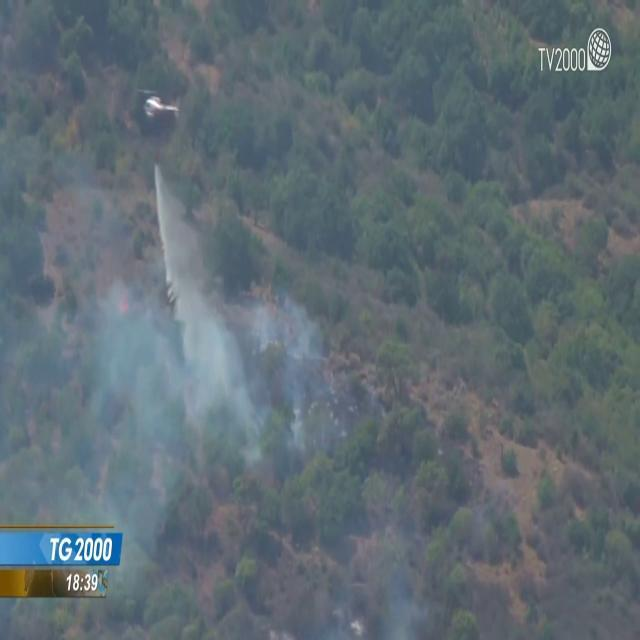Smoke: (1, 70, 328, 592)
